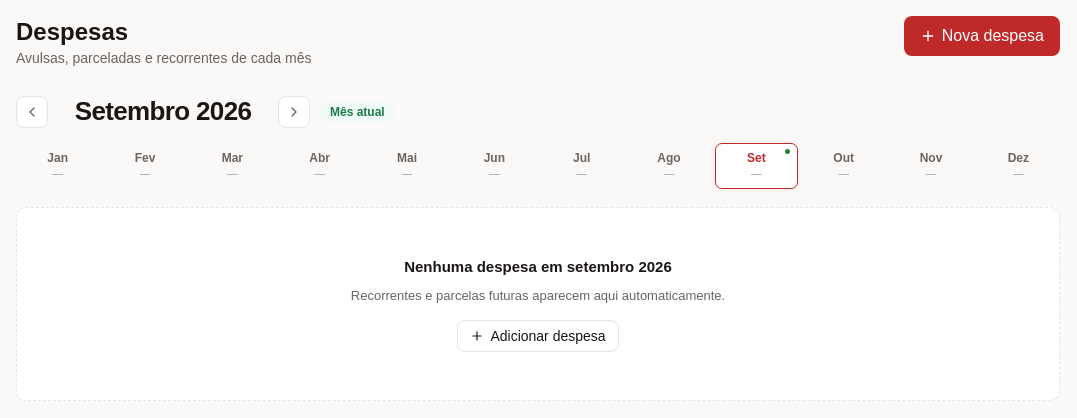
página de despesas: estrutura e navegação › navega pela faixa e volta ao mês atual
Click the button "Nov —". click: (931, 166)
box: x1=889 y1=143 x2=973 y2=189
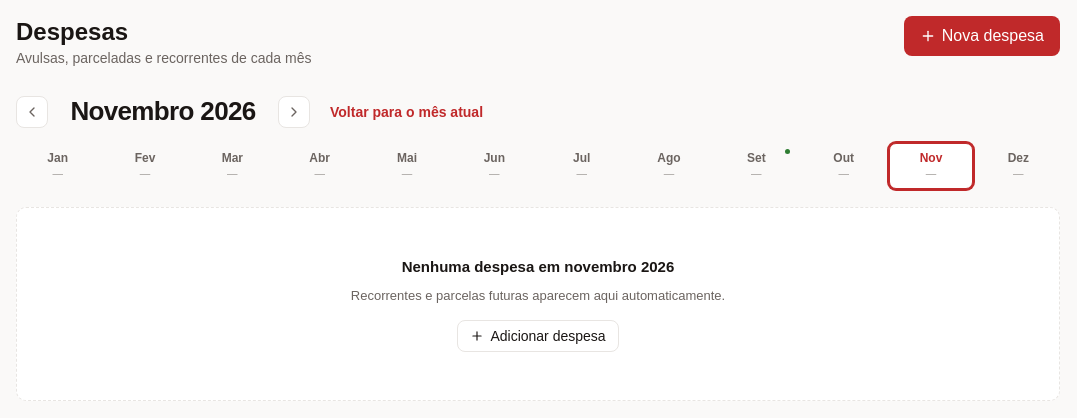
Now the heading "Novembro 2026" is shown, box x1=58 y1=92 x2=268 y2=131
Click the button "Voltar para o mês atual". click: (406, 112)
box: x1=320 y1=96 x2=493 y2=128
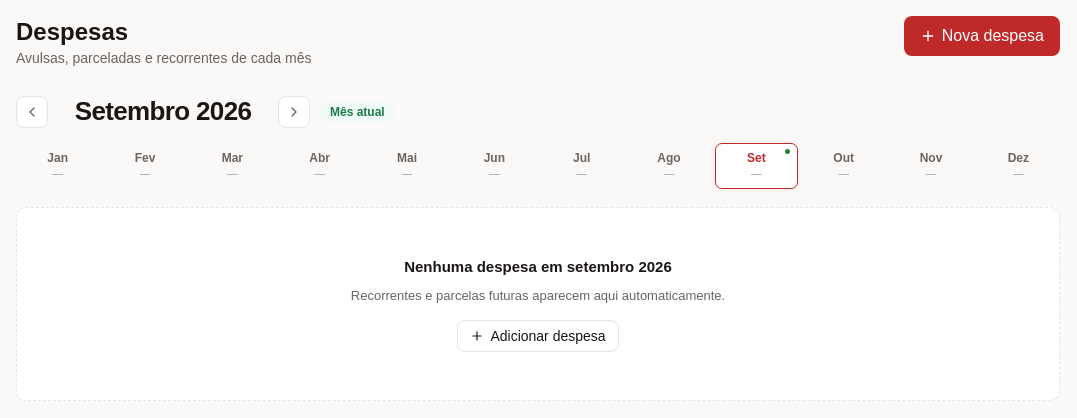
Now the heading "Setembro 2026" is shown, box x1=75 y1=96 x2=251 y2=126
